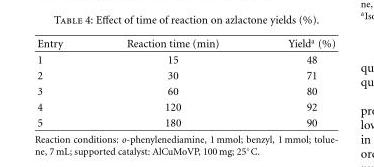table: (36, 36, 334, 128)
table column: (94, 36, 252, 128), (252, 36, 334, 128), (36, 36, 94, 128)
table column header: (36, 36, 334, 51)
table row: (36, 51, 334, 67), (36, 82, 334, 98), (36, 98, 334, 114), (36, 36, 334, 51), (36, 67, 334, 82), (36, 114, 334, 128)
